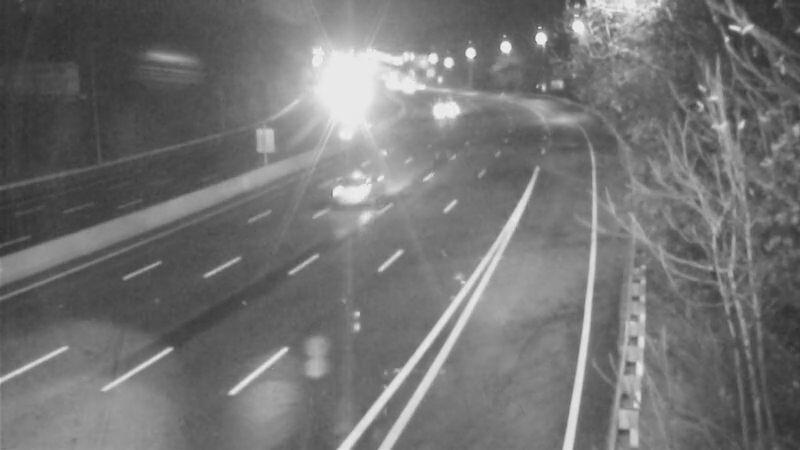vehicle: (311, 155, 391, 235), (414, 86, 464, 136), (319, 78, 369, 128)
